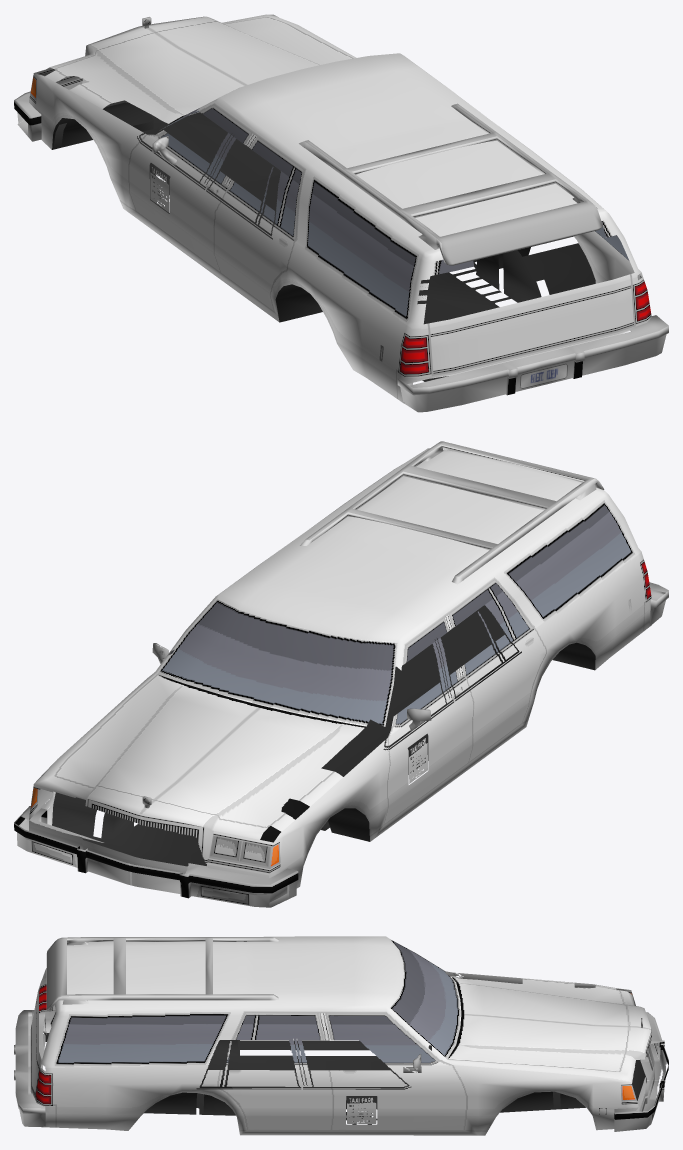
The model's file is 89LeSabreWagon.fbx.
3 views of the same model, one above another, from view 1: azimuth 30°, elevation 25°; view 2: azimuth 150°, elevation 25°; view 3: azimuth 270°, elevation 25° (orthographic). The views are drawn at different scales.
Parts seen in each view (by area): view 1: 89lesabrewagon; view 2: 89lesabrewagon; view 3: 89lesabrewagon.
Part boxes in pixels (left/top/right/bottom): 89lesabrewagon: left=14, top=14, right=668, bottom=412; 89lesabrewagon: left=14, top=441, right=668, bottom=907; 89lesabrewagon: left=14, top=936, right=668, bottom=1135.
Size of the model in its own units: 2.12 by 1.13 by 5.51.
